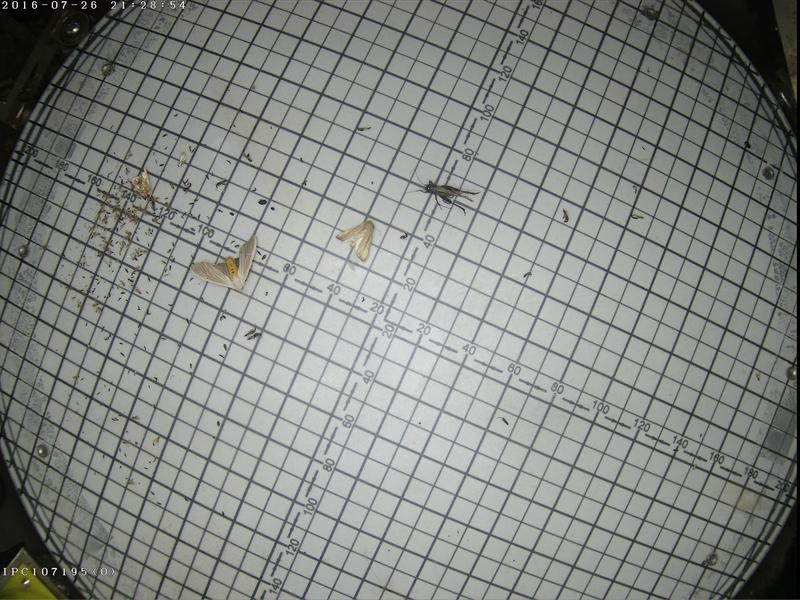Stem borer: (339, 219, 373, 260)
